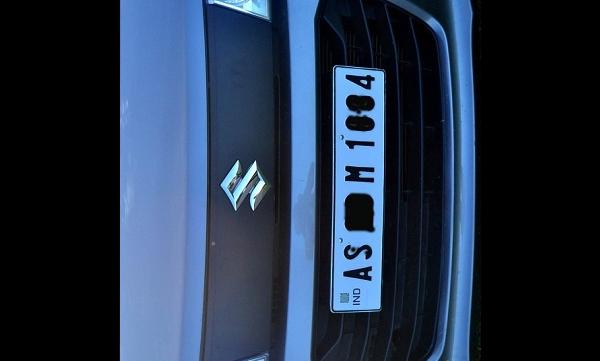plate: (317, 49, 398, 318)
